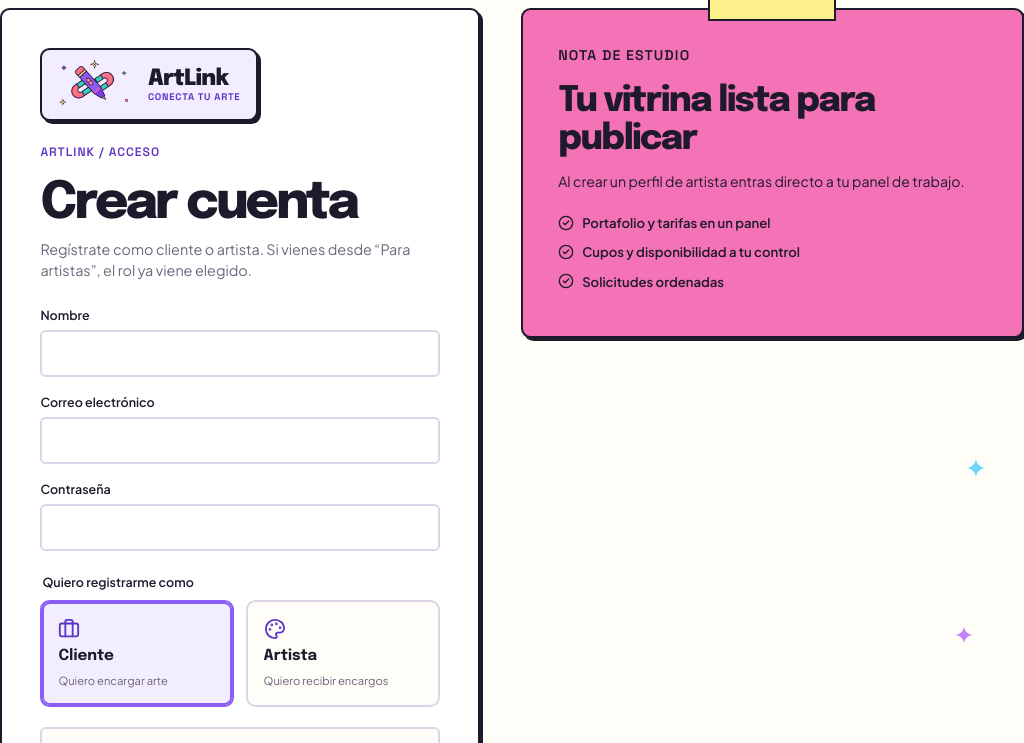
Scenario: RegisterPage - Términos y Condiciones › bloquea el registro y muestra error accesible si no se acepta el checkbox
Step 1. Type "Valeria" into the field labelled "Nombre" → (240, 354), box [40,330,440,377]
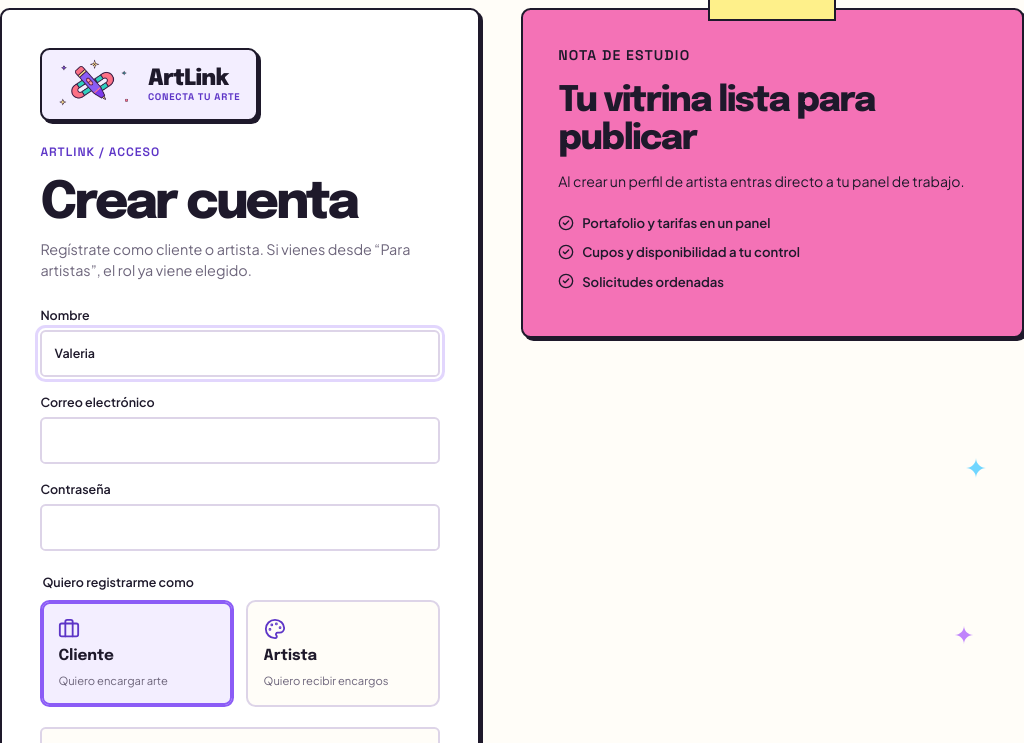
Step 2. Type "valeria@artlink.test" into the field labelled "Correo electrónico" → (240, 441), box [40,417,440,464]
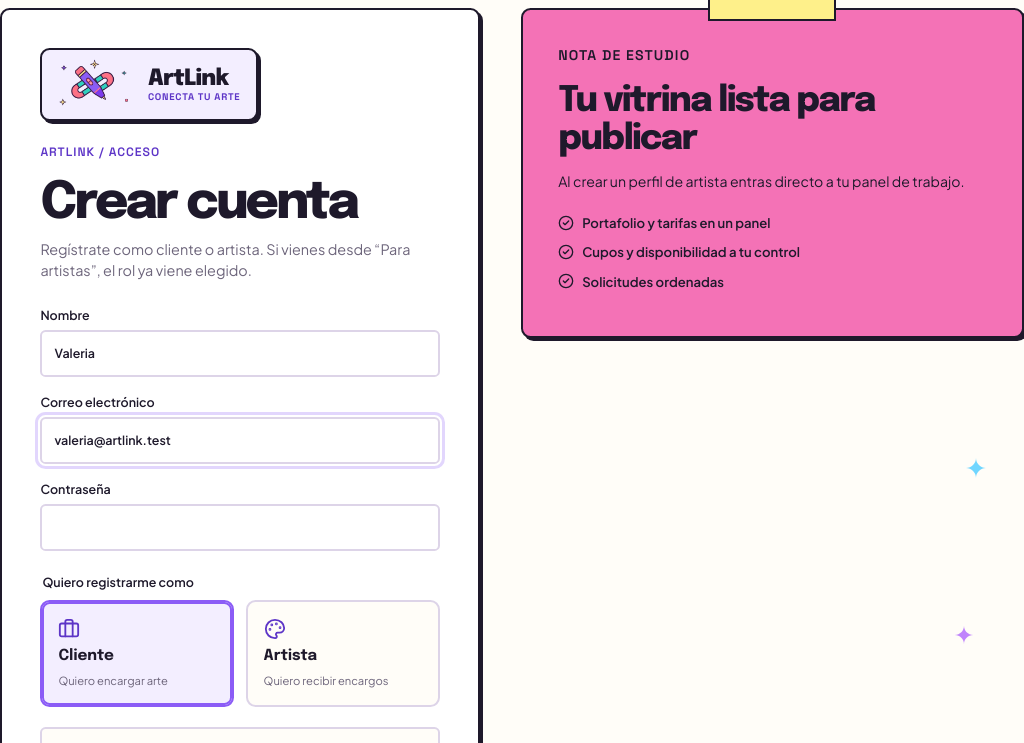
Step 3. Type "password123" into the password field named "Contraseña demo" → (240, 528), box [40,504,440,551]
(page scrolled)
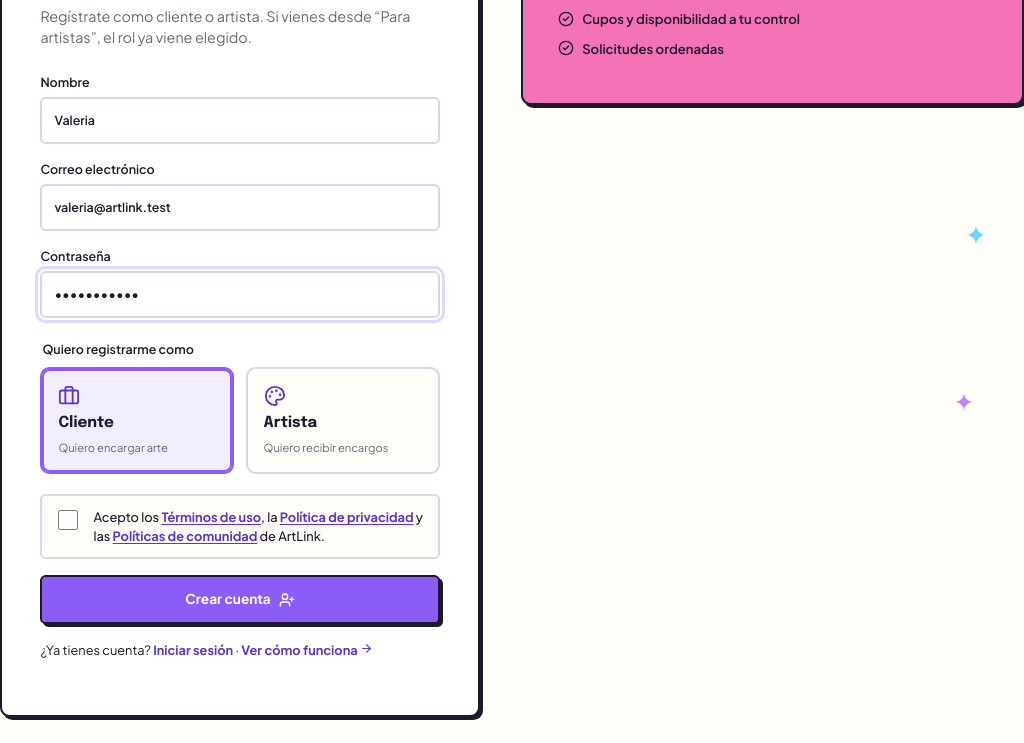
Step 4. Click the button "Crear cuenta" → (240, 600), box [40,575,440,624]
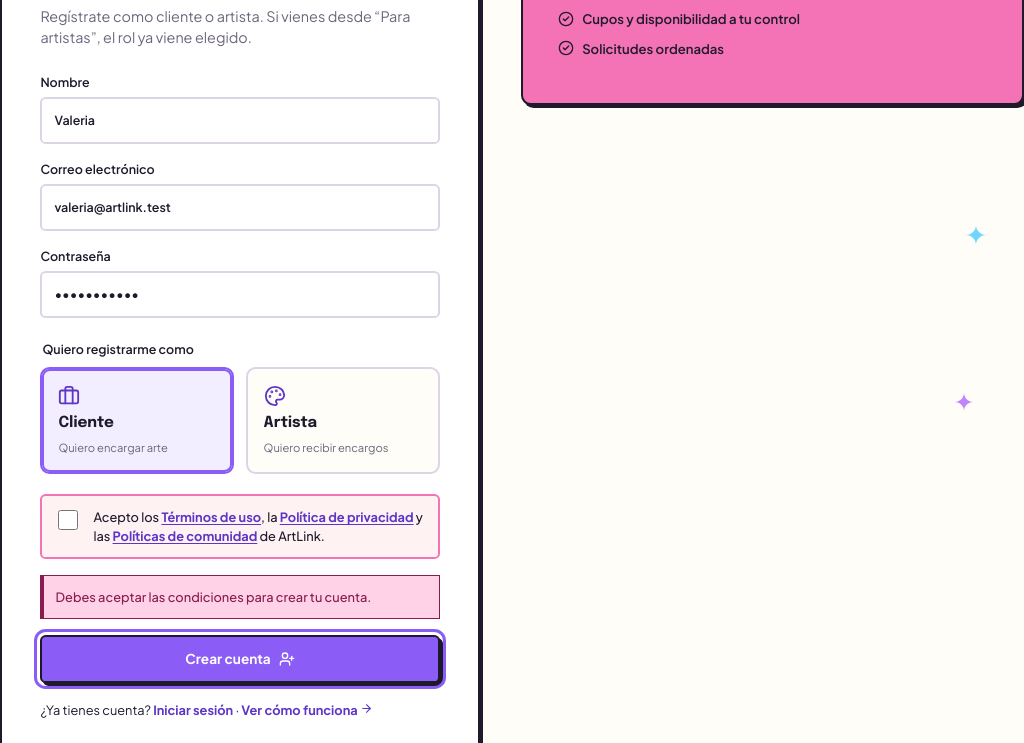
Now the message reads "Debes aceptar las condiciones para crear tu cuenta.", box [56,588,371,604]
